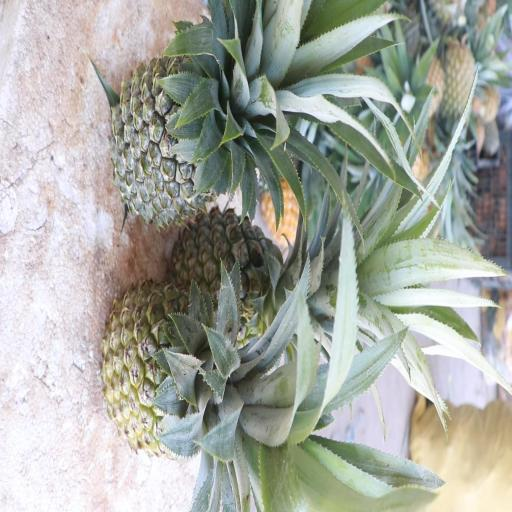------------------------------: (100, 274, 334, 464), (162, 205, 350, 364)
